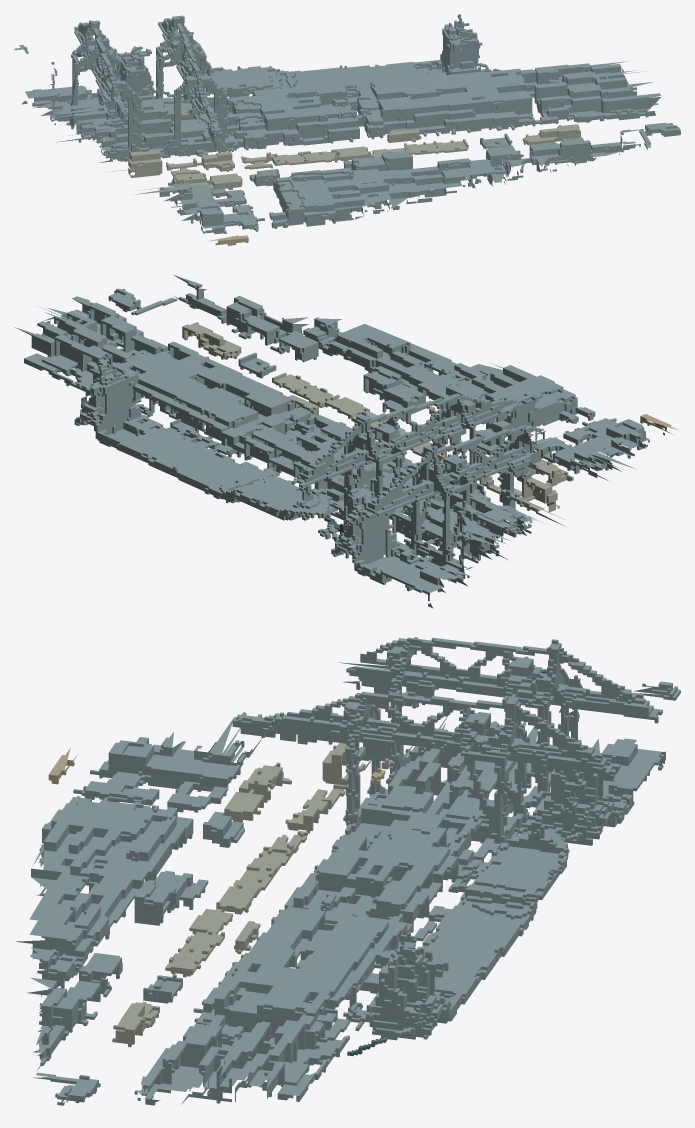
3 views of the same model, one above another, from view 1: azimuth 30°, elevation 25°; view 2: azimuth 150°, elevation 25°; view 3: azimuth 270°, elevation 25° (orthographic). The views are drawn at different scales.
Parts seen in each view (by area): view 1: measured-industrial; view 2: measured-industrial; view 3: measured-industrial.
Part boxes in pixels (x1,y1,x2,y2): measured-industrial: [14, 14, 680, 245]; measured-industrial: [15, 275, 678, 608]; measured-industrial: [16, 637, 680, 1105].
Size of the model in its own units: 281 by 52.09 by 207.
